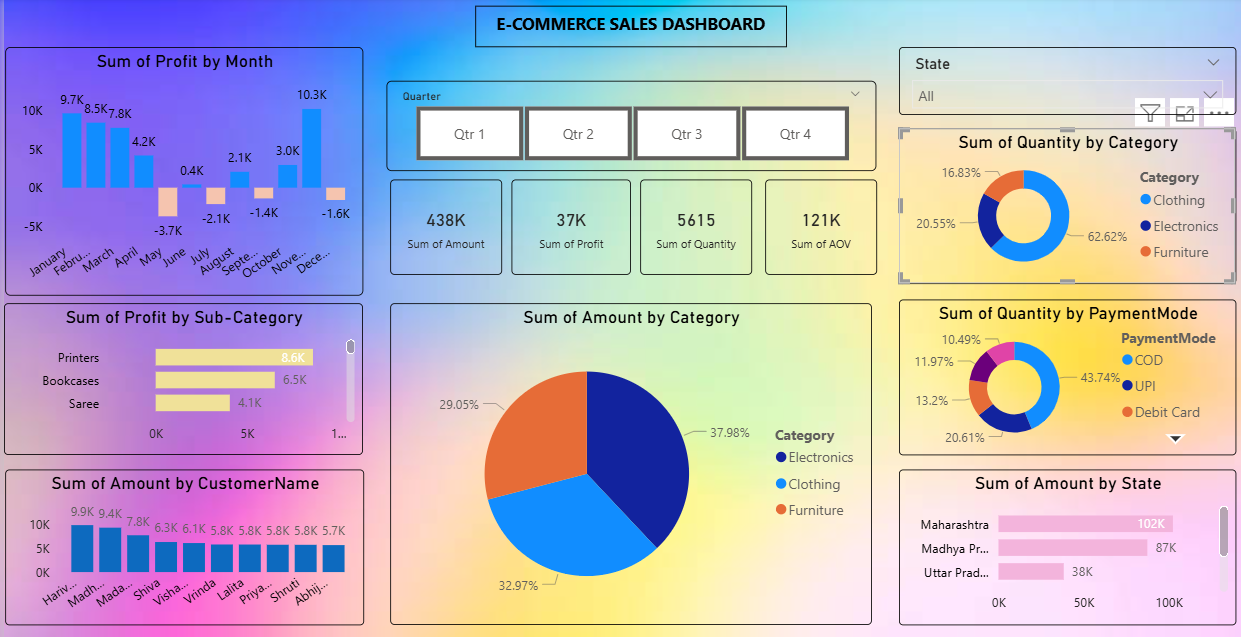

What the dashboard file says about the page in this screenshot:
{"tool":"powerbi","page":{"name":"Page 1","canvas":[1280,720],"ordinal":0},"visuals":[{"type":"textbox","box":[454.8,8.4,300.4,53.1],"z":0},{"type":"columnChart","fields":{"Y":["Details.Profit"],"Category":["Orders.Order Date.Variation.Date Hierarchy.Month"]},"box":[1.1,47.8,345.6,240],"z":1000},{"type":"barChart","fields":{"Category":["Details.Sub-Category"],"Y":["Details.Profit"]},"box":[0,295.6,346.7,146.7],"z":2000},{"type":"donutChart","fields":{"Y":["Details.Quantity"],"Category":["Details.Category"]},"box":[863.3,126.7,325.6,150],"z":3000},{"type":"donutChart","fields":{"Y":["Details.Quantity"],"Category":["Details.PaymentMode"]},"box":[863.3,292.2,325.6,150],"z":4000},{"type":"card","fields":{"Values":["Details.Amount"]},"box":[373.3,175.6,107.8,92.2],"z":5000},{"type":"card","fields":{"Values":["Details.Quantity"]},"box":[614.4,175.6,107.8,92.2],"z":6000},{"type":"card","fields":{"Values":["Details.Profit"]},"box":[490,175.6,115.6,92.2],"z":7000},{"type":"card","fields":{"Values":["Details.AOV"]},"box":[734.4,175.6,107.8,92.2],"z":8000},{"type":"barChart","fields":{"Category":["Orders.State"],"Y":["Details.Amount"]},"box":[863.3,455.6,325.6,150],"z":9000},{"type":"columnChart","fields":{"Category":["Orders.CustomerName"],"Y":["Details.Amount"]},"box":[1.1,455.6,346.7,150],"z":10000},{"type":"slicer","fields":{"Values":["Orders.Order Date.Variation.Date Hierarchy.Quarter"]},"box":[369.2,80.8,472.9,86.9],"z":11000},{"type":"slicer","fields":{"Values":["Orders.State"]},"box":[863.3,47.8,325.6,65.6],"z":12000},{"type":"pieChart","fields":{"Category":["Details.Category"],"Y":["Details.Amount"]},"box":[373.3,295.6,464.4,310],"z":13000}]}

Visuals, with their boxes on the page's 1280x720 design canvas (x1, y1, x2, y2). These are canvas units, not pixel positions in the 1241x637 screenshot, which may show the page scaled, cropped or inside an application window:
textbox: 455/8/755/62
columnChart - Details.Profit x Orders.Order Date.Variation.Date Hierarchy.Month: 1/48/347/288
barChart - Details.Sub-Category x Details.Profit: 0/296/347/442
donutChart - Details.Quantity x Details.Category: 863/127/1189/277
donutChart - Details.Quantity x Details.PaymentMode: 863/292/1189/442
card - Details.Amount: 373/176/481/268
card - Details.Quantity: 614/176/722/268
card - Details.Profit: 490/176/606/268
card - Details.AOV: 734/176/842/268
barChart - Orders.State x Details.Amount: 863/456/1189/606
columnChart - Orders.CustomerName x Details.Amount: 1/456/348/606
slicer - Orders.Order Date.Variation.Date Hierarchy.Quarter: 369/81/842/168
slicer - Orders.State: 863/48/1189/113
pieChart - Details.Category x Details.Amount: 373/296/838/606
